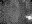person: (26, 14, 31, 20)
